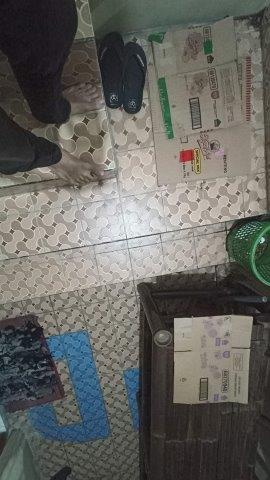kardus: (149, 19, 251, 184)
